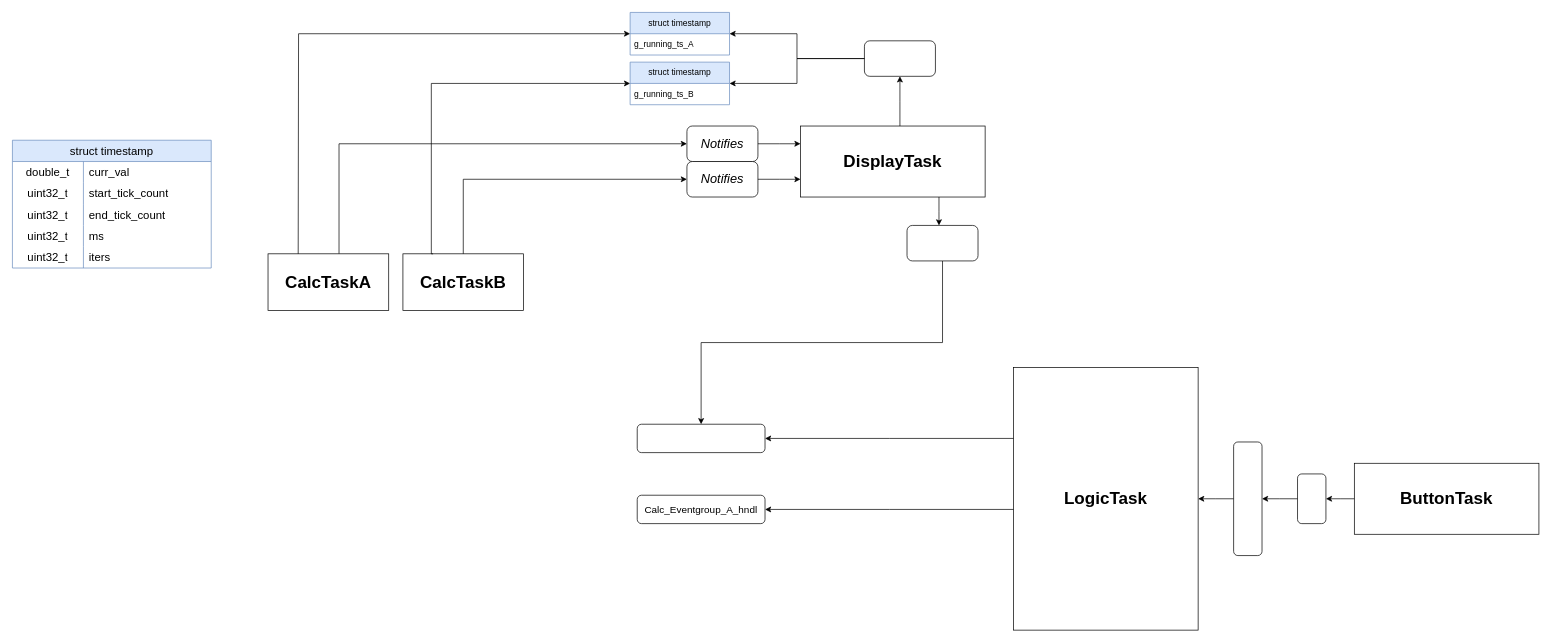
Some shapes in this 1551 by 643 pixel diagram are drawn without their labels. The shapes that lost their labels are listed below. From the top down, each one's centre as x and y in pixels, then its label:
At pixel 899 58: "reads".
At pixel 942 243: "checks".
At pixel 701 438: "Calc_Eventgroup_B_hndl".
At pixel 1247 498: "Btn_Eventgroup_hndl".
At pixel 1311 498: "sets".
